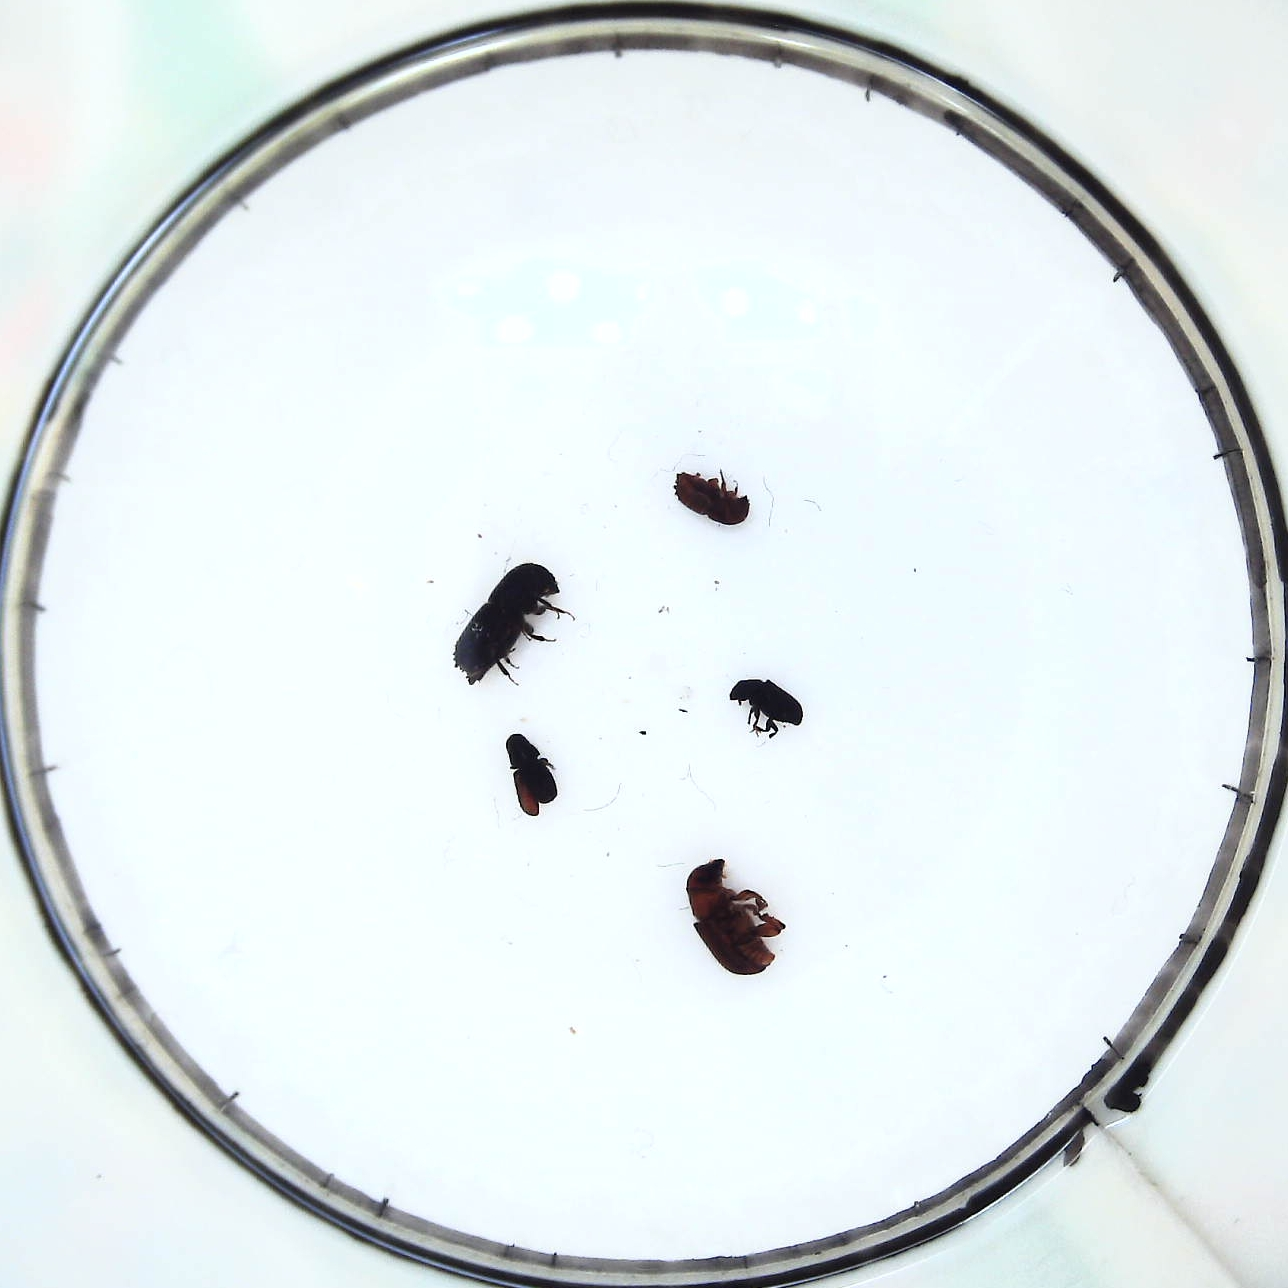Boerner: (449, 560, 560, 685)
Leconte: (685, 855, 783, 980)
Linnaeus: (673, 467, 755, 528)
armandi: (504, 730, 563, 815)
coleoptera: (728, 677, 806, 740)
